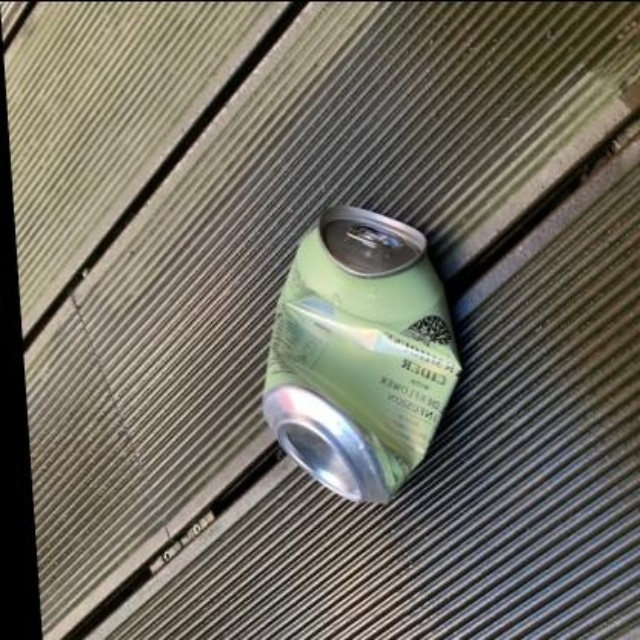trash: (263, 206, 460, 502)
